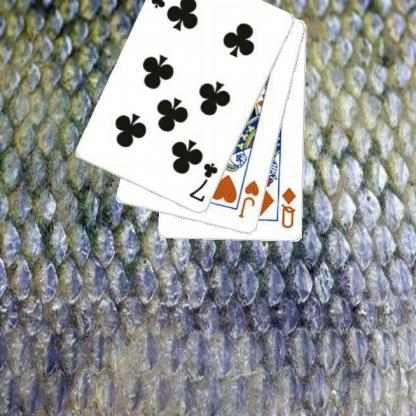7C: (186, 160, 219, 204), (148, 0, 182, 10)
JH: (236, 178, 261, 220)
QD: (278, 184, 298, 230)
